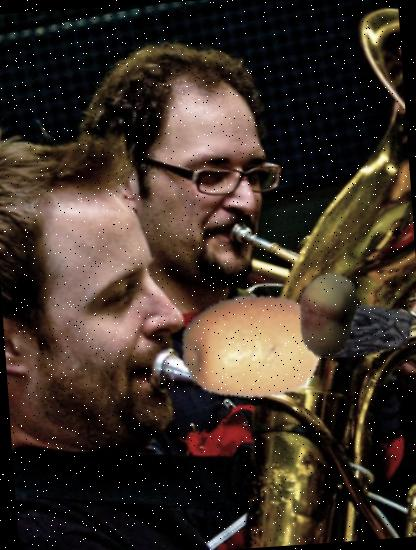Dates: (297, 268, 416, 390)
Kumquats: (176, 270, 328, 422)
Peach: (282, 270, 374, 362)
